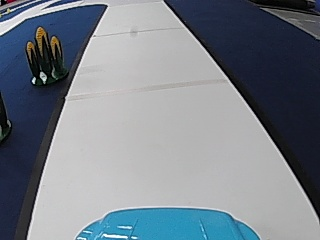corn: (23, 23, 68, 83)
